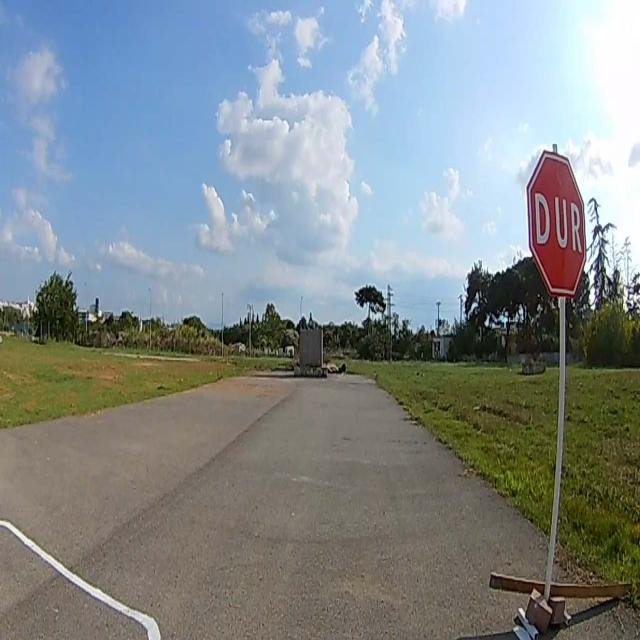dur: (524, 151, 587, 297)
